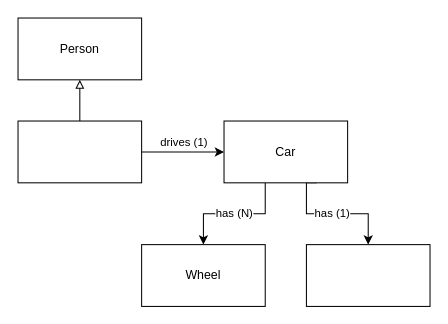
Image size: 448x324. Some labels were removed from this diagram. Here are the shapes that lost their labels. From the top down, the box of each, then its label:
(17, 120, 142, 183): Driver
(305, 244, 430, 306): Licence plate
